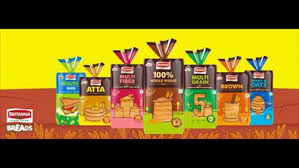bread: (142, 34, 185, 134), (110, 49, 150, 136), (183, 48, 218, 134), (215, 54, 252, 130), (50, 59, 82, 131), (248, 57, 279, 131), (79, 62, 105, 130)
